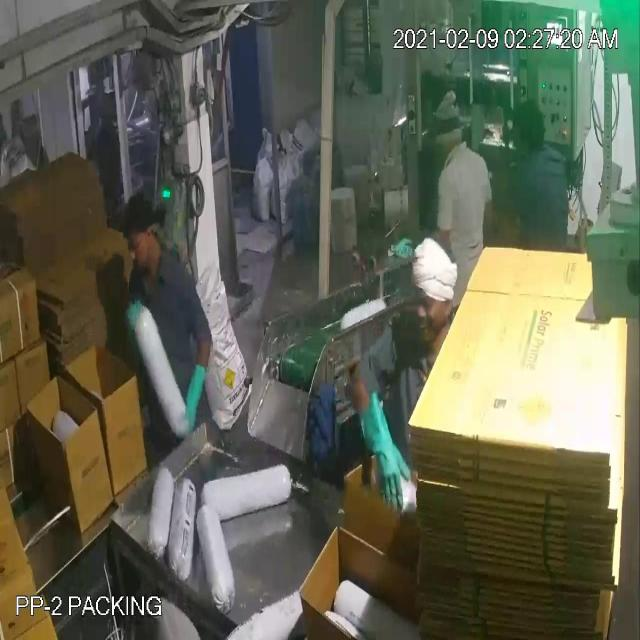gloves: (355, 386, 414, 519), (178, 348, 212, 442), (117, 292, 155, 361)
